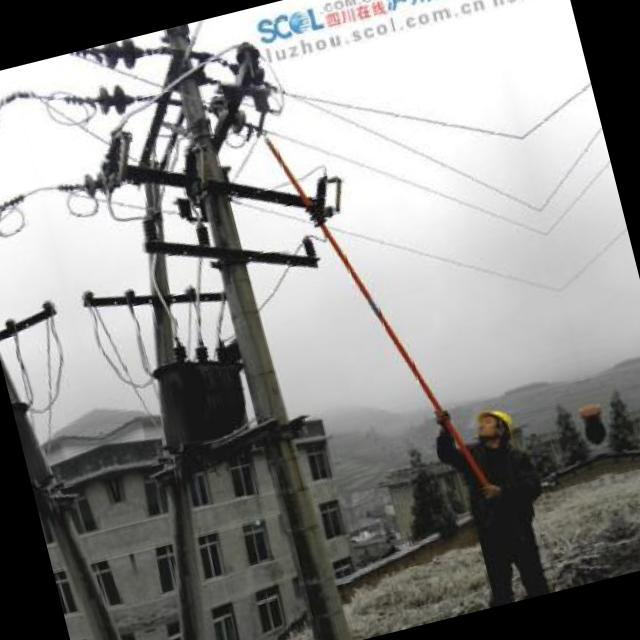helmet: (468, 403, 520, 451)
